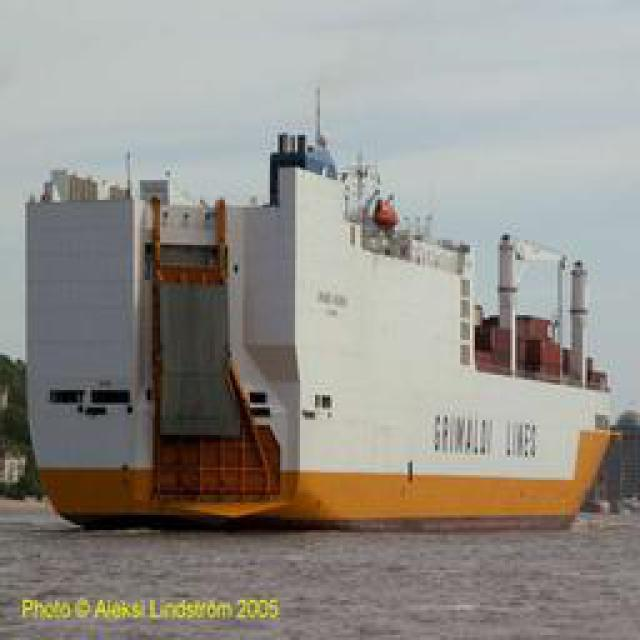Ship: (38, 111, 616, 536)
